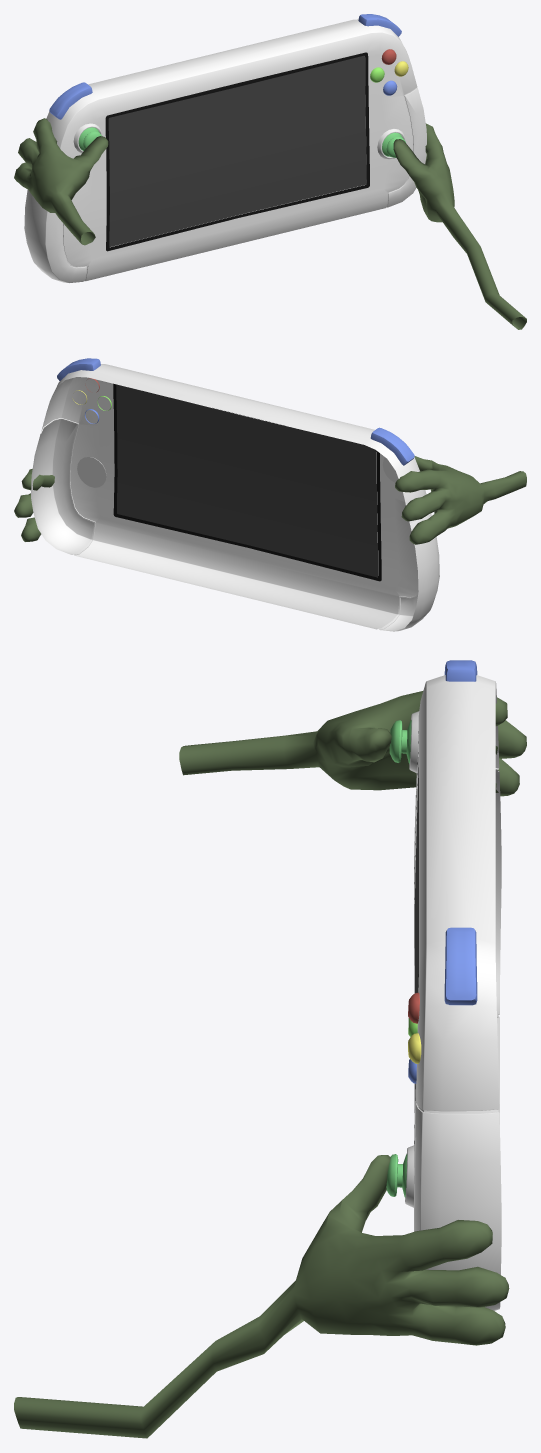
The model's file is ConsoleAndHandsTEST.fbx.
3 renders of one model, top to bottom at view 1: azimuth 30°, elevation 25°; view 2: azimuth 150°, elevation 25°; view 3: azimuth 270°, elevation 25°, orthographic. The views are drawn at different scales.
Parts seen in each view (by area): view 1: Console, LeftHand, RightHand, TopButton, Buttons; view 2: Console, LeftHand, TopButton, RightHand, BaseJoystick2; view 3: Console, RightHand, LeftHand, TopButton, Buttons.
Part boxes in pixels (left/top/right/bottom): Console: left=24, top=19, right=426, bottom=283; LeftHand: left=14, top=118, right=108, bottom=245; RightHand: left=393, top=123, right=526, bottom=329; TopButton: left=49, top=14, right=401, bottom=119; Buttons: left=370, top=49, right=408, bottom=95; Console: left=31, top=364, right=439, bottom=631; LeftHand: left=395, top=456, right=526, bottom=544; TopButton: left=57, top=358, right=414, bottom=465; RightHand: left=14, top=469, right=54, bottom=541; BaseJoystick2: left=77, top=457, right=106, bottom=487; Console: left=414, top=675, right=501, bottom=1310; RightHand: left=14, top=1155, right=509, bottom=1438; LeftHand: left=179, top=691, right=526, bottom=796; TopButton: left=444, top=660, right=477, bottom=1005; Buttons: left=408, top=992, right=421, bottom=1083.
Size of the model in its own units: 151 by 81.53 by 81.58.
